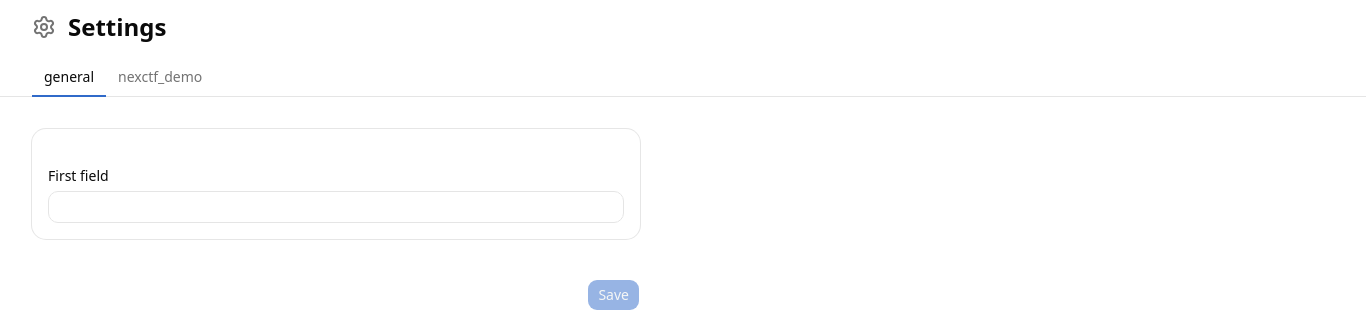
Test: records the selected tab in the URL
Click the button "nexctf_demo" at (160, 78), box [106,59,214,97]
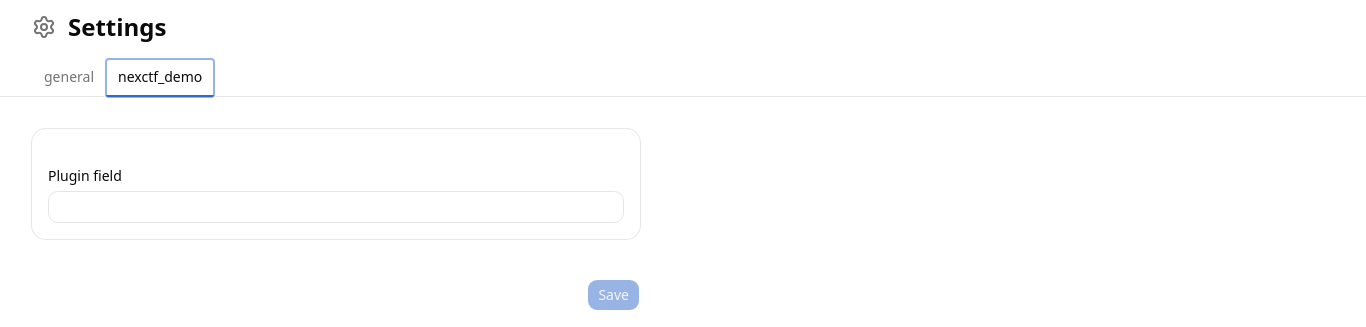
Check: the text "Plugin field" is shown, box [48,166,122,185]
